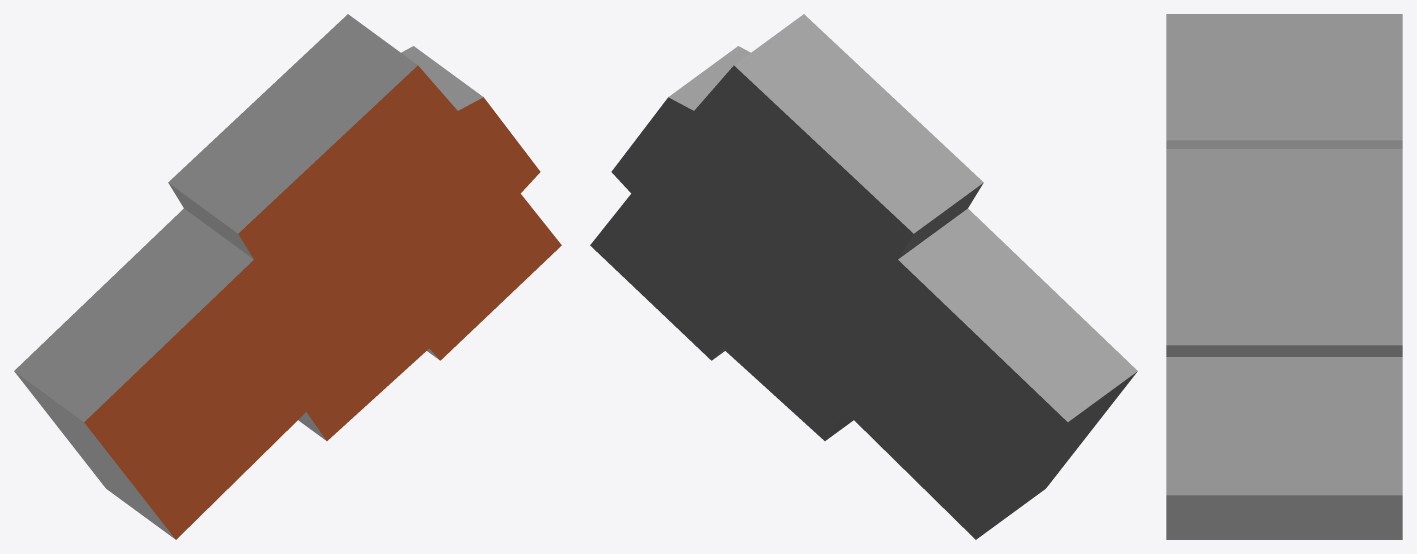
File: construction_1990_assumed_A_Casa_h6m.obj
3 renders of one model, left to right at view 1: azimuth 30°, elevation 25°; view 2: azimuth 150°, elevation 25°; view 3: azimuth 270°, elevation 25°, orthographic. The views are drawn at different scales.
Visible parts, largest first — view 1: construction_1990_assumed_A_Casa; view 2: construction_1990_assumed_A_Casa; view 3: construction_1990_assumed_A_Casa.
Boxes of the visible parts, box(x1,y1,x2,y2) form: construction_1990_assumed_A_Casa: box(14, 14, 561, 539); construction_1990_assumed_A_Casa: box(590, 14, 1137, 539); construction_1990_assumed_A_Casa: box(1166, 14, 1402, 539).
Bounding box in the file's own units: 23.62 × 19.64 × 6.
